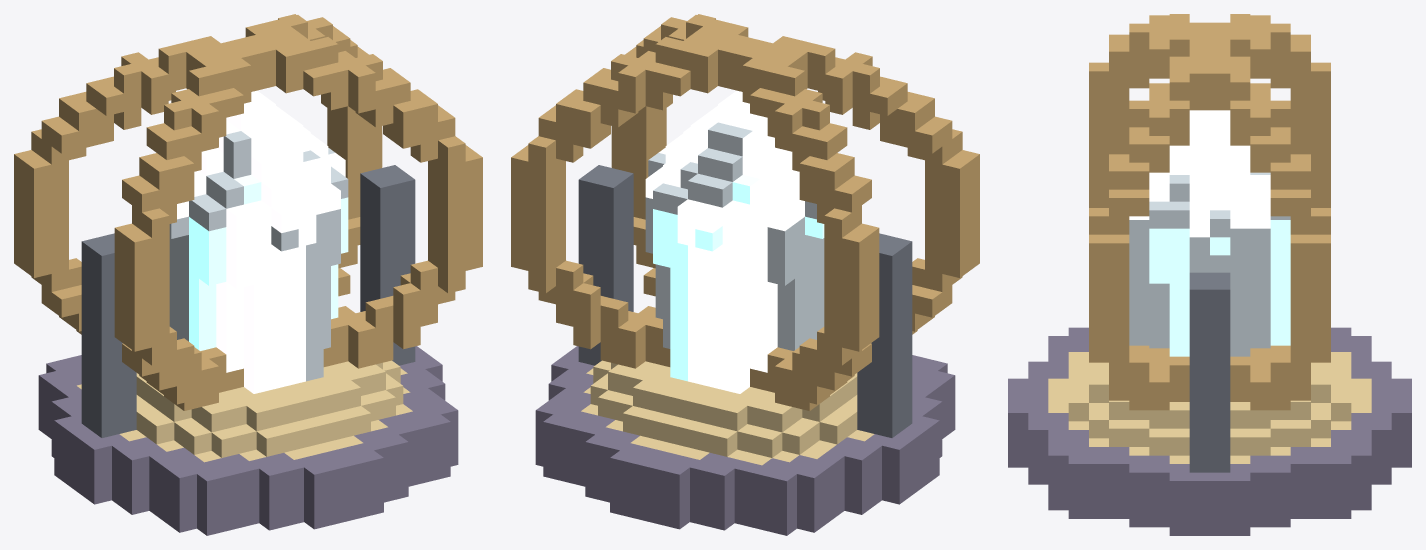
The model's file is crystal_observatory_lens.glb.
3 views of the same model, side by side, from view 1: azimuth 30°, elevation 25°; view 2: azimuth 150°, elevation 25°; view 3: azimuth 270°, elevation 25° (orthographic).
Size of the model in its own units: 0.8333 by 0.9167 by 0.8333.
